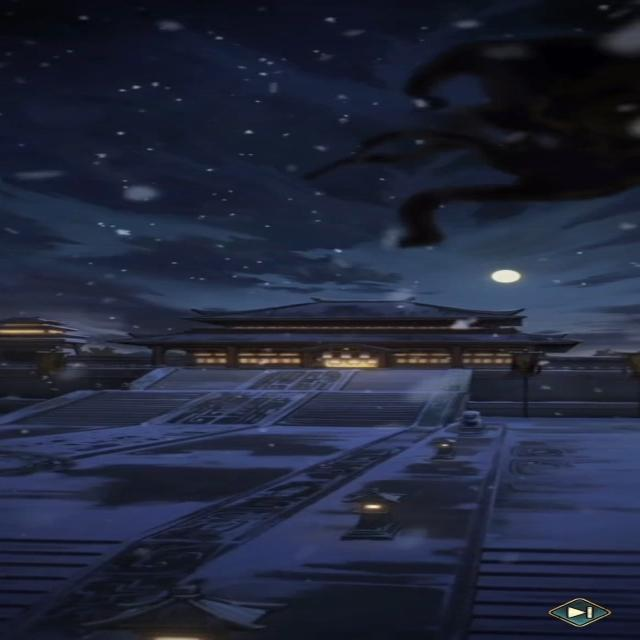system-skip: (545, 596, 610, 629)
